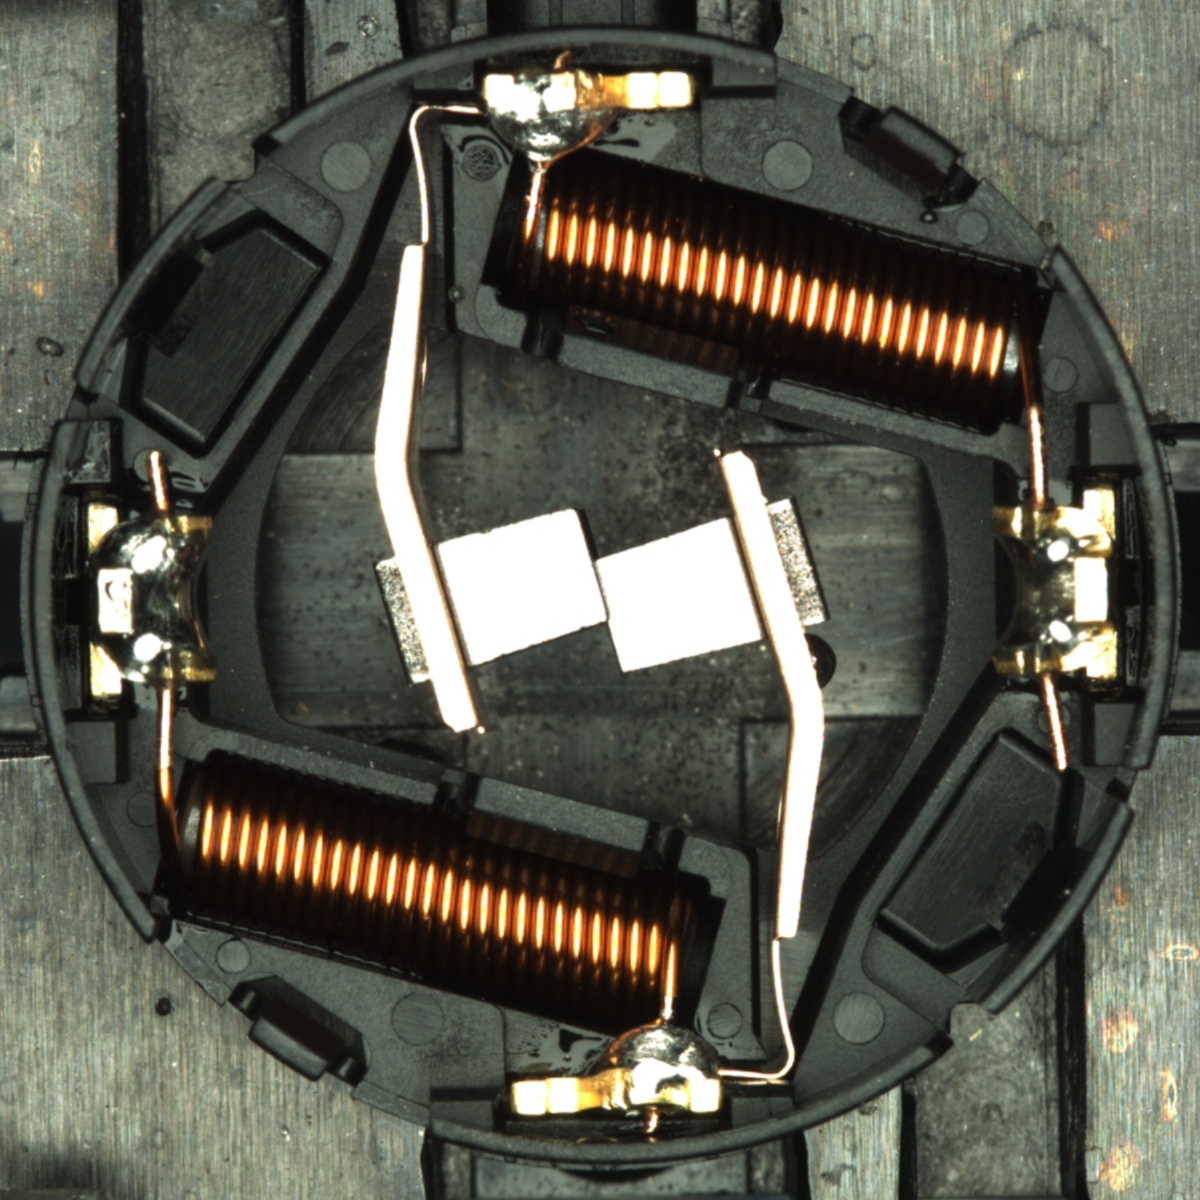1: (255, 29, 484, 253), (714, 927, 943, 1151)
2: (714, 29, 943, 253), (255, 927, 484, 1151)
3: (26, 253, 255, 478), (943, 702, 1172, 927)
4: (255, 253, 484, 478), (714, 702, 943, 927)
5: (484, 141, 714, 366), (484, 814, 714, 1039)
6: (714, 253, 943, 478), (255, 702, 484, 927)
7: (943, 253, 1172, 478), (26, 702, 255, 927)
cacbon: (400, 496, 798, 684)
chau_dien: (81, 498, 221, 699), (983, 487, 1123, 685)
hat_chi: (802, 633, 838, 690)
tay_choi: (481, 68, 698, 169), (510, 1018, 724, 1117)
thanh_de: (955, 787, 1142, 1031), (60, 163, 245, 404)
